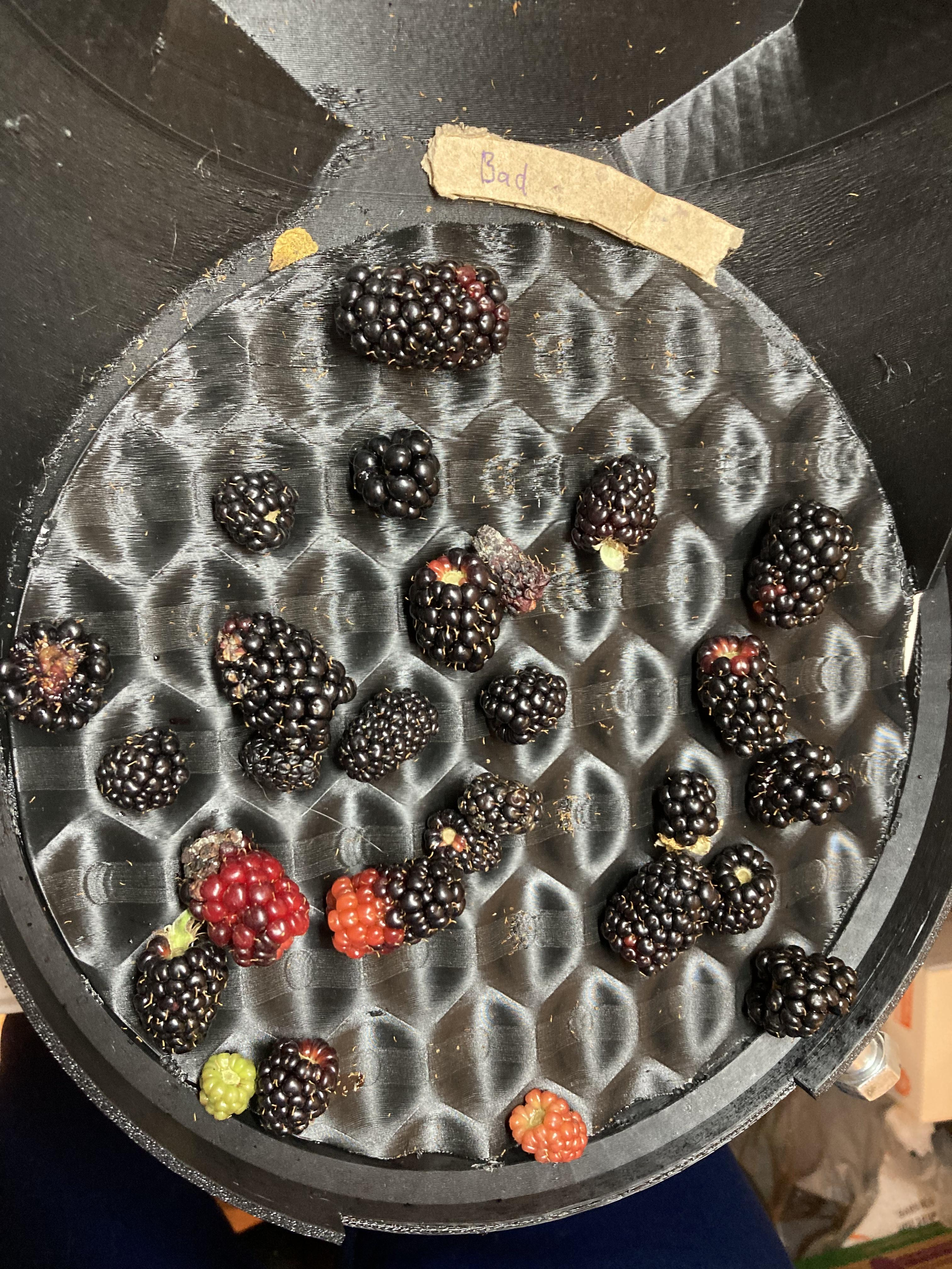berry: (325, 259, 504, 372), (213, 613, 355, 750), (181, 828, 309, 967), (601, 855, 719, 975), (326, 858, 465, 958), (746, 504, 858, 624), (0, 618, 113, 732), (131, 928, 229, 1052), (694, 634, 787, 763), (745, 945, 858, 1037), (336, 686, 440, 781), (407, 567, 498, 672), (747, 739, 854, 828), (348, 426, 437, 523), (252, 1039, 337, 1140), (577, 454, 654, 563), (96, 725, 189, 809), (212, 470, 298, 554), (472, 525, 552, 614), (479, 662, 563, 745), (706, 844, 774, 933), (650, 765, 715, 858), (509, 1089, 587, 1163), (458, 773, 542, 835), (422, 809, 501, 873), (239, 733, 320, 791), (199, 1052, 256, 1120)
